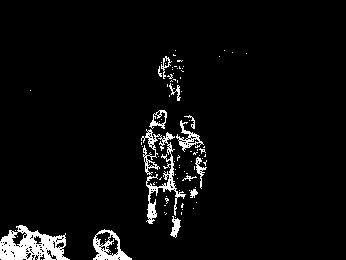person: (168, 113, 206, 239), (141, 107, 173, 226)
